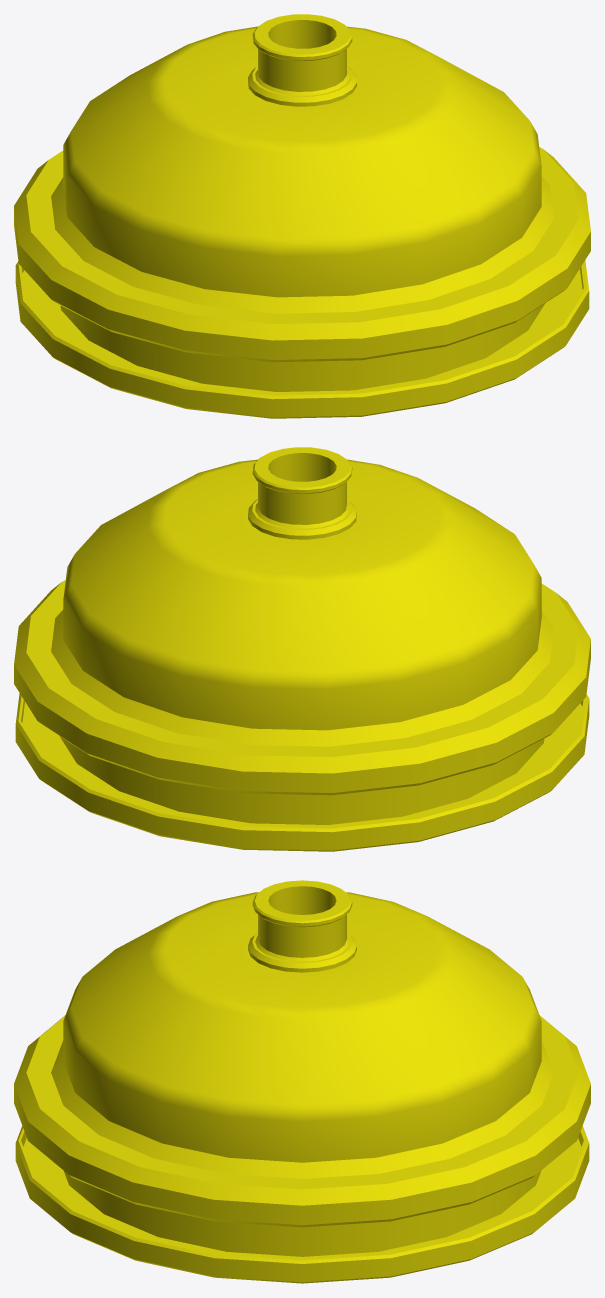
File: Cap.fbx
3 renders of one model, top to bottom at view 1: azimuth 30°, elevation 25°; view 2: azimuth 150°, elevation 25°; view 3: azimuth 270°, elevation 25°, orthographic.
Visible parts, largest first — view 1: Cap1; view 2: Cap1; view 3: Cap1.
Part boxes in pixels (x1,y1,x2,y2): Cap1: (14, 14, 590, 418); Cap1: (14, 447, 590, 851); Cap1: (14, 880, 590, 1283).
Bounding box in the file's own units: 93.34 × 53.31 × 93.34.
